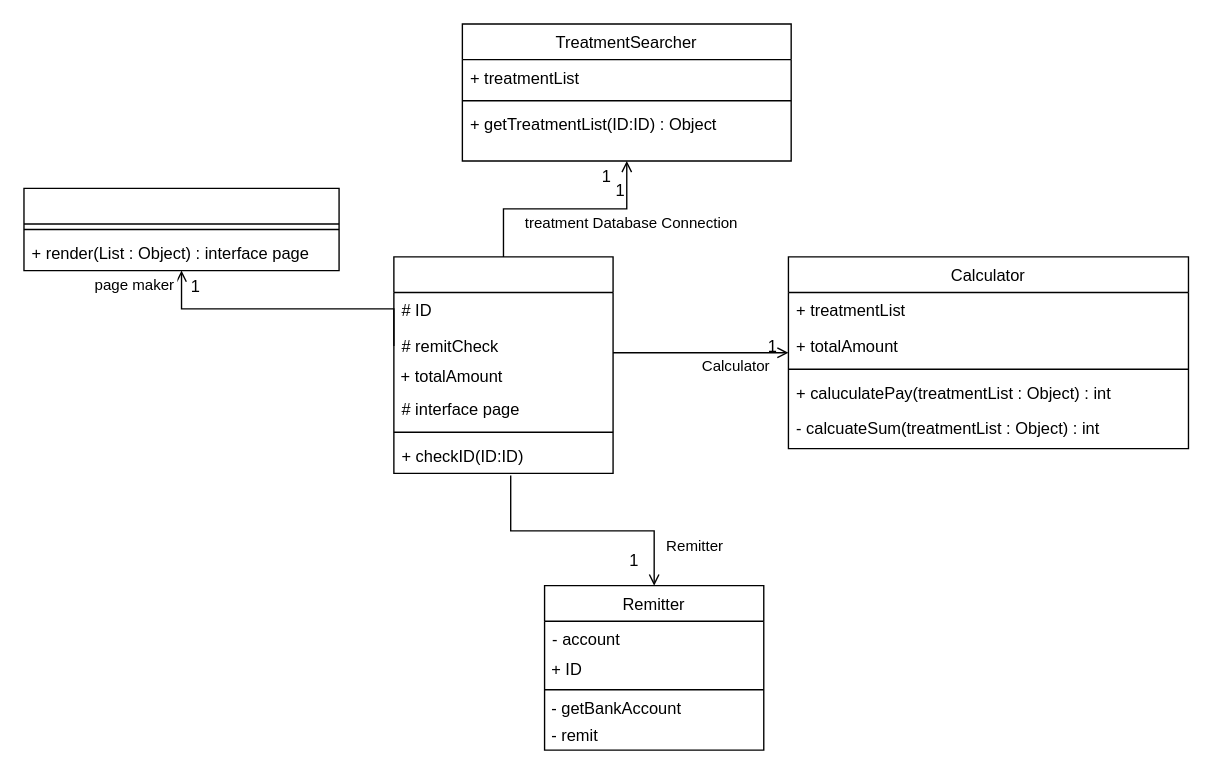
The diagram is 1212 pixels wide and 774 high, and some of its shapes have lost their labels. The shapes that lost their labels are listed below. From the top down, each one's box as (x1, y1, x2, y2) in pixels, then its label:
(23, 187, 339, 271): PageMaker
(393, 256, 613, 473): Controller
